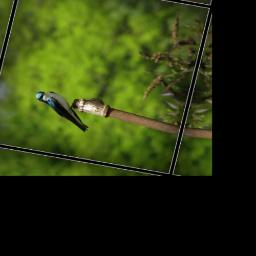Swallow: (28, 88, 97, 133)
